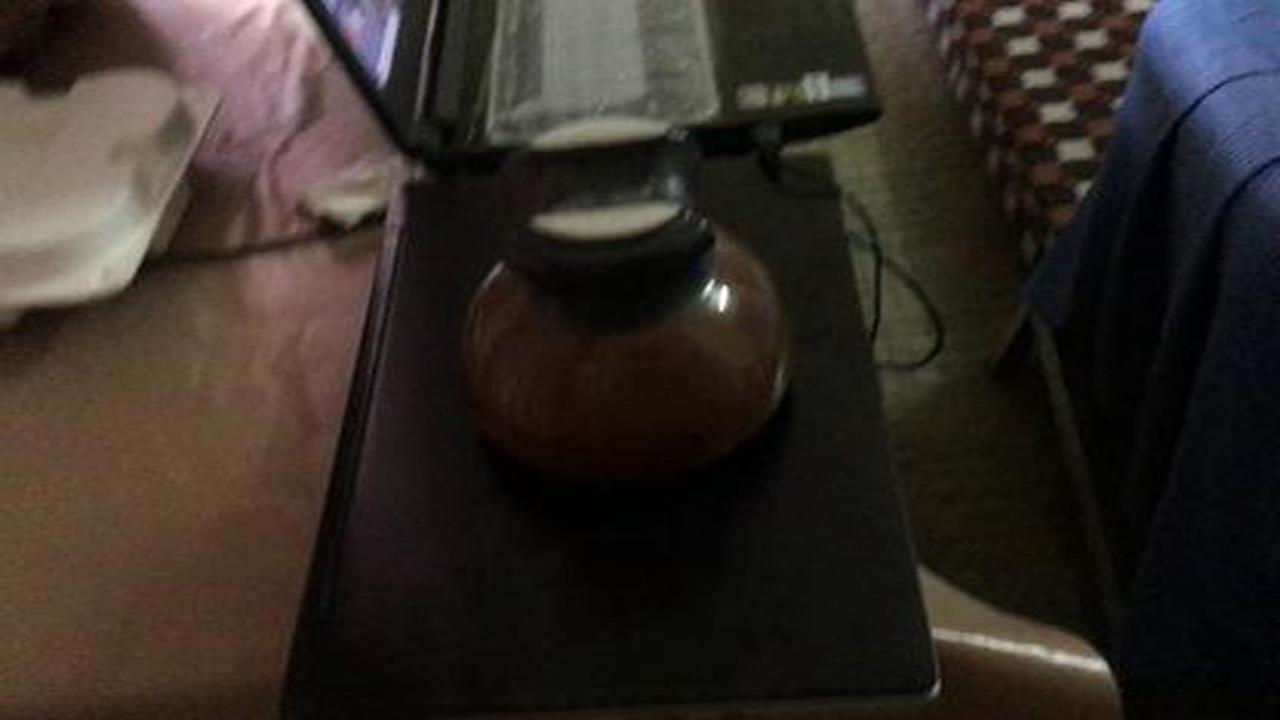insulator_pin: (450, 103, 807, 506)
